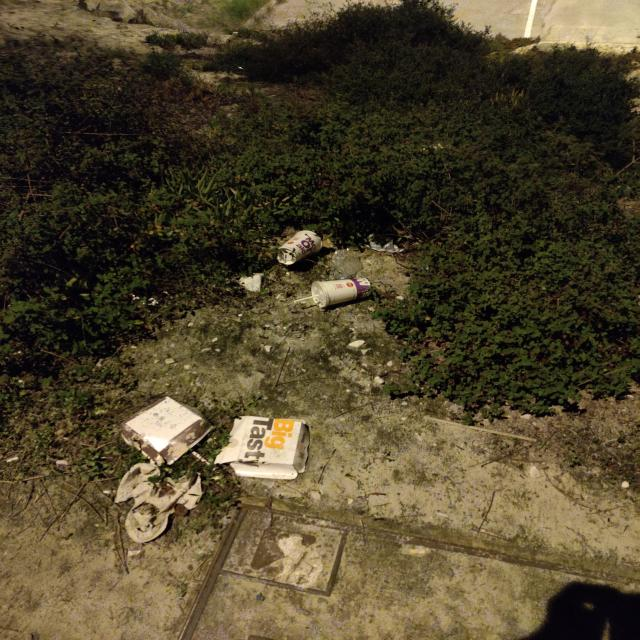litter: (116, 278, 373, 541), (274, 230, 326, 264)
